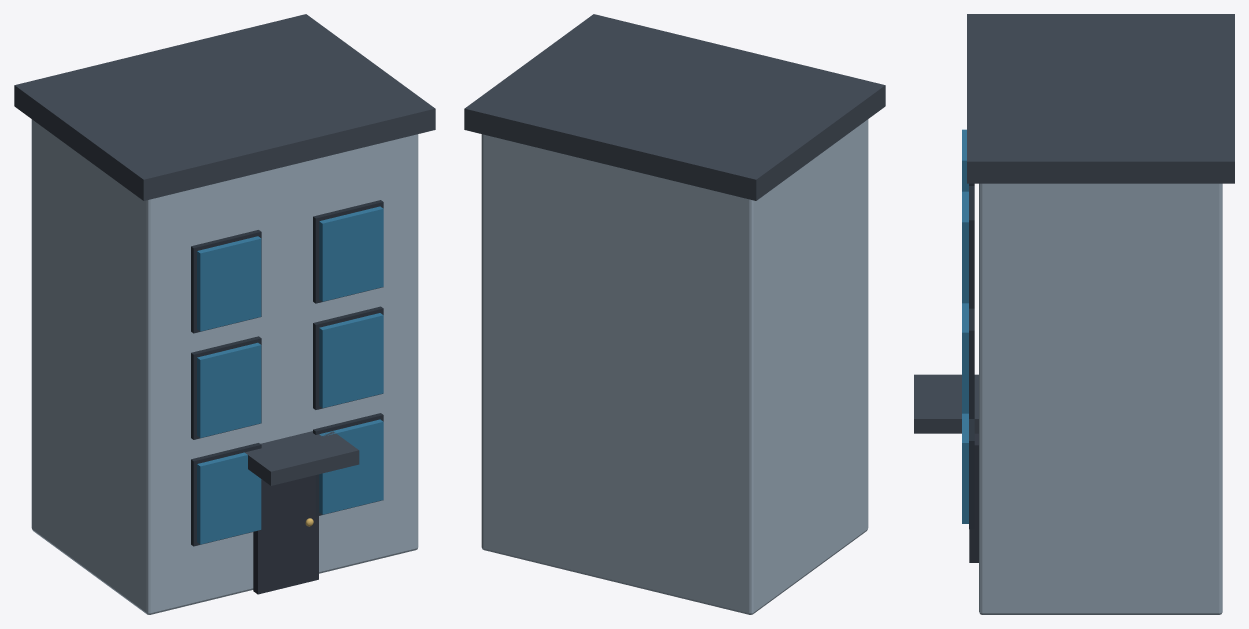
File: TRASHFORM_LowPoly_CityBuilding.fbx
The picture shows the model from 3 angles, left to right: view 1: azimuth 30°, elevation 25°; view 2: azimuth 150°, elevation 25°; view 3: azimuth 270°, elevation 25°; orthographic projection. The views are drawn at different scales.
Parts seen in each view (by area): view 1: Building_MainBody, Building_Roof, Building_MainDoor, Building_Window_05, Building_Window_03, Building_Window_06, Building_Window_04, Building_Window_01, Building_EntranceCanopy, Building_Window_02, Building_WindowFrame_03, Building_WindowFrame_04 (+4 smaller); view 2: Building_MainBody, Building_Roof; view 3: Building_MainBody, Building_Roof, Building_EntranceCanopy, Building_MainDoor, Building_Window_06, Building_Window_02, Building_Window_04, Building_WindowFrame_06, Building_WindowFrame_02, Building_WindowFrame_04.
Part boxes in pixels (box(x1,y1,x2,y2)): Building_MainBody: box(31, 119, 418, 614); Building_Roof: box(14, 14, 435, 200); Building_MainDoor: box(253, 475, 318, 594); Building_Window_05: box(197, 236, 261, 331); Building_Window_03: box(197, 342, 261, 437); Building_Window_06: box(319, 206, 383, 301); Building_Window_04: box(319, 313, 383, 408); Building_Window_01: box(197, 452, 261, 544); Building_EntranceCanopy: box(245, 431, 359, 485); Building_Window_02: box(319, 419, 383, 514); Building_WindowFrame_03: box(191, 336, 261, 439); Building_WindowFrame_04: box(313, 306, 383, 409); Building_MainBody: box(481, 119, 868, 614); Building_Roof: box(464, 14, 885, 200); Building_MainBody: box(979, 183, 1222, 614); Building_Roof: box(967, 14, 1234, 183); Building_EntranceCanopy: box(914, 374, 978, 433); Building_MainDoor: box(969, 433, 978, 562); Building_Window_06: box(962, 191, 968, 303); Building_Window_02: box(962, 413, 968, 523); Building_Window_04: box(962, 303, 968, 413); Building_WindowFrame_06: box(969, 186, 974, 308); Building_WindowFrame_02: box(969, 419, 974, 529); Building_WindowFrame_04: box(969, 308, 974, 418).
Bounding box in the file's own units: 430 × 625 × 395.
